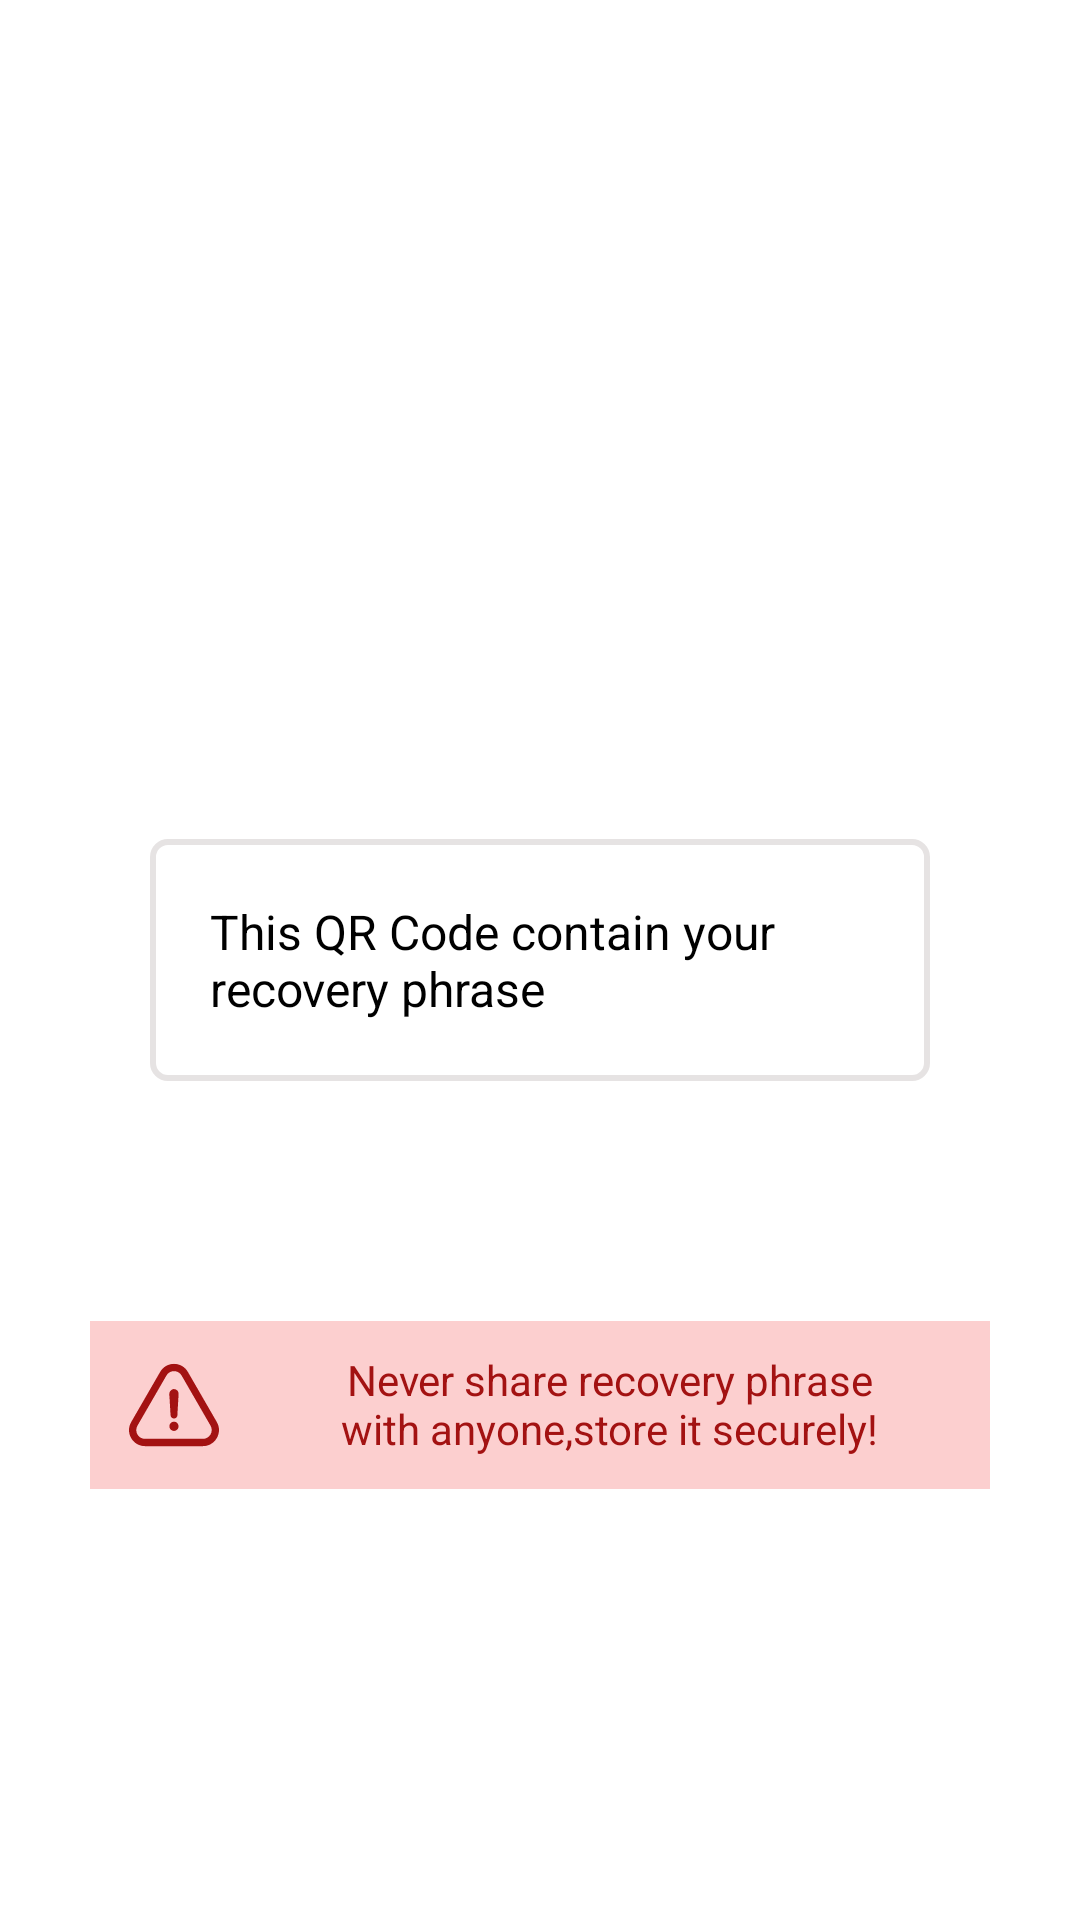

Locate icon controls on the screen. Image size 1080w x 1920h, boxes as (x1, y1, x2, y2).
warning: (129, 1364, 219, 1447)
